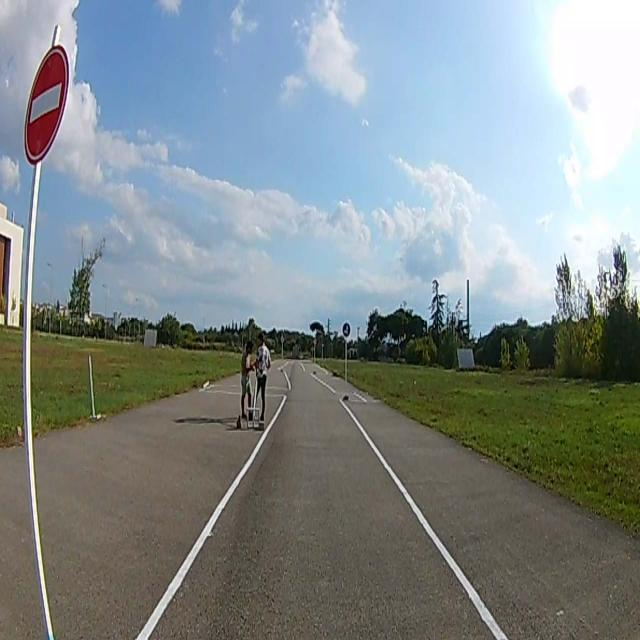girisyok: (26, 46, 65, 158)
ilerisol: (343, 320, 351, 336)
